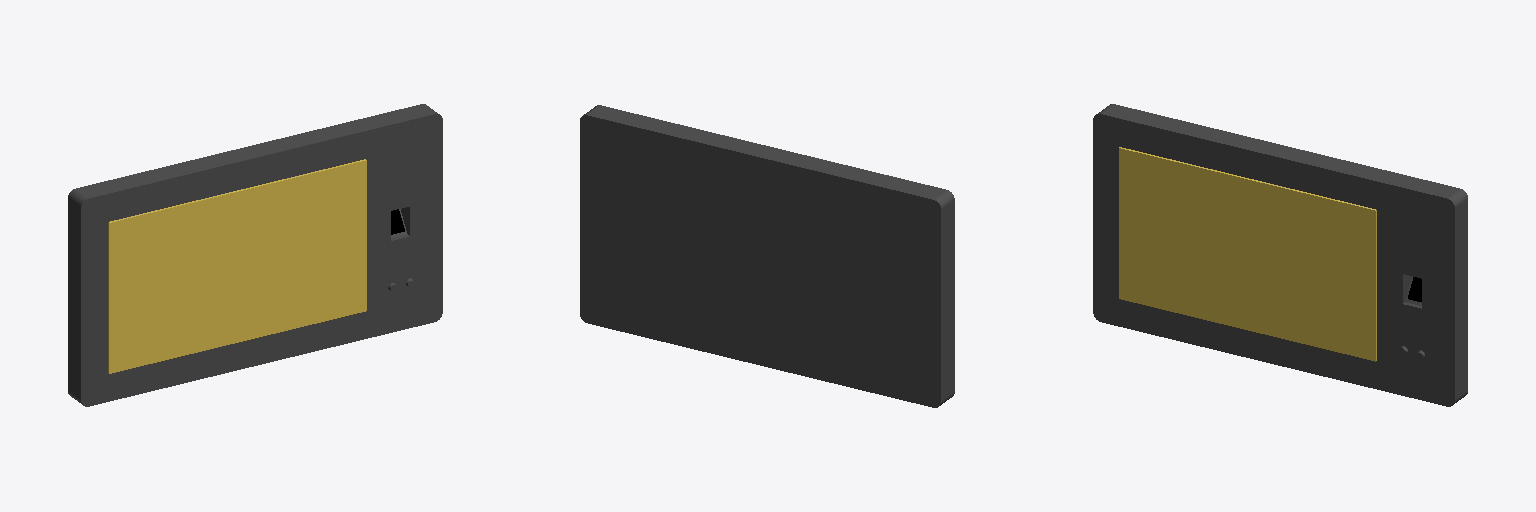
File: internalscreen.obj
3 views of the same model, side by side, from view 1: azimuth 30°, elevation 25°; view 2: azimuth 150°, elevation 25°; view 3: azimuth 330°, elevation 25° (orthographic).
Visible parts, largest first — view 1: Rectangle003, Rectangle023; view 2: Rectangle003; view 3: Rectangle003, Rectangle023.
Part boxes in pixels (left/top/right/bottom): Rectangle003: left=68, top=104, right=442, bottom=406; Rectangle023: left=108, top=159, right=366, bottom=373; Rectangle003: left=580, top=105, right=954, bottom=407; Rectangle003: left=1093, top=104, right=1467, bottom=406; Rectangle023: left=1119, top=147, right=1376, bottom=361.
Bounding box in the file's own units: 460 × 253 × 33.6.